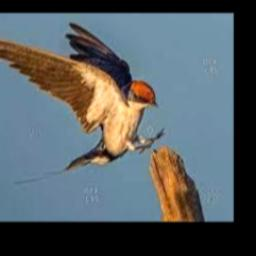Swallow: (0, 22, 165, 184)
